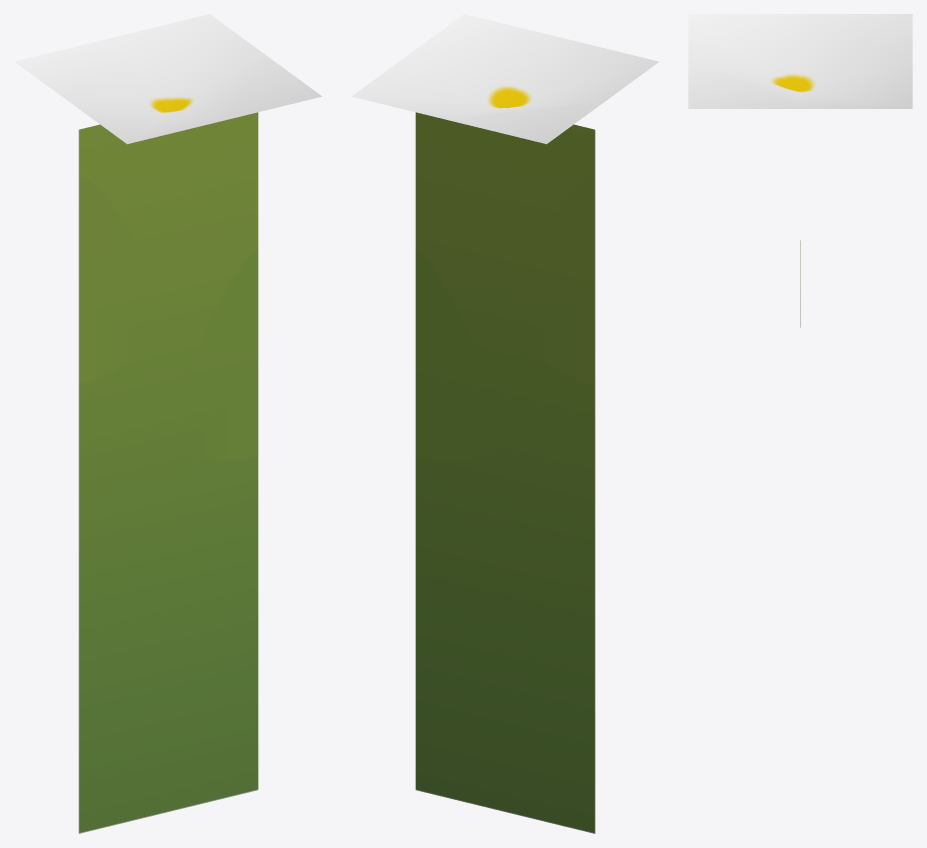
File: Flower_01.fbx
The picture shows the model from 3 angles, left to right: view 1: azimuth 30°, elevation 25°; view 2: azimuth 150°, elevation 25°; view 3: azimuth 270°, elevation 25°; orthographic projection.
Visible parts, largest first — view 1: Flower_01; view 2: Flower_01; view 3: Flower_01.
Part boxes in pixels (bbox=[...]): Flower_01: bbox=[15, 14, 321, 833]; Flower_01: bbox=[352, 14, 658, 833]; Flower_01: bbox=[688, 14, 912, 327].
Bounding box in the file's own units: 10.49 × 37.6 × 10.49.
